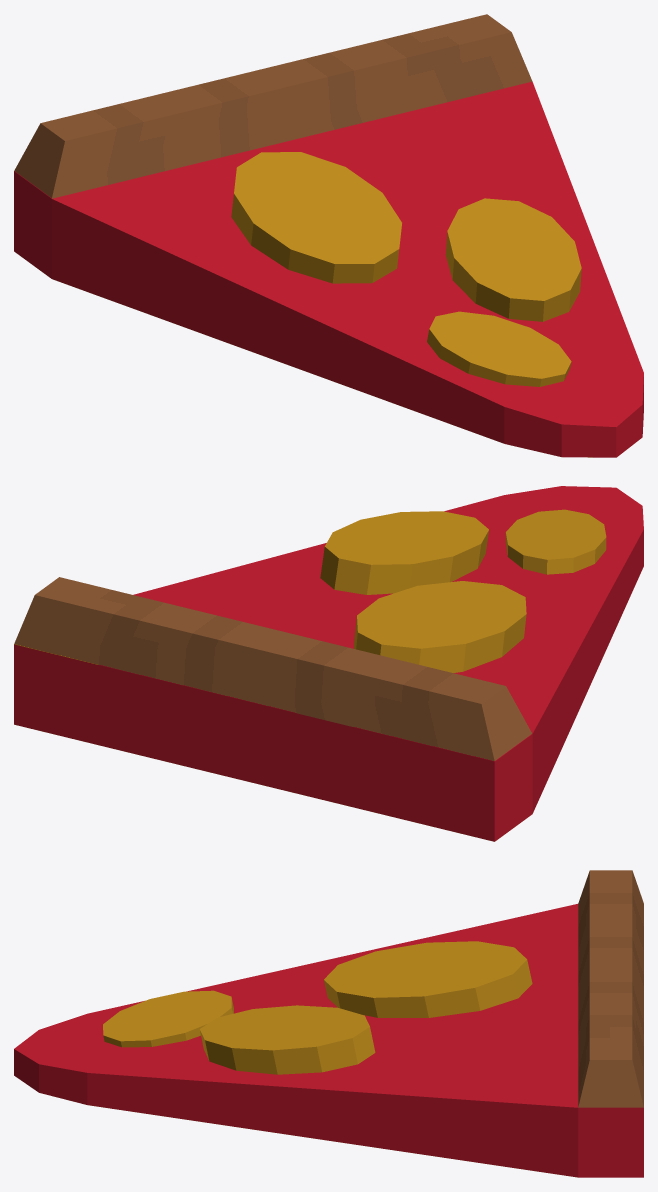
File: Pizza.fbx
3 renders of one model, top to bottom at view 1: azimuth 30°, elevation 25°; view 2: azimuth 150°, elevation 25°; view 3: azimuth 270°, elevation 25°, orthographic. The views are drawn at different scales.
Visible parts, largest first — view 1: Pizza; view 2: Pizza; view 3: Pizza.
Part boxes in pixels (x1,y1,x2,y2): Pizza: (14,14,643,457); Pizza: (14,486,643,841); Pizza: (14,870,643,1177).
Bounding box in the file's own units: 0.2562 × 0.0653 × 0.3342.
